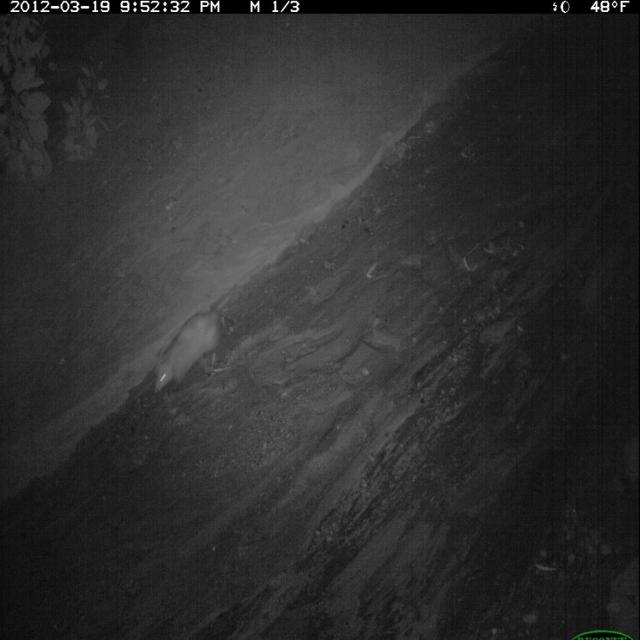opossum: (147, 280, 244, 402)
